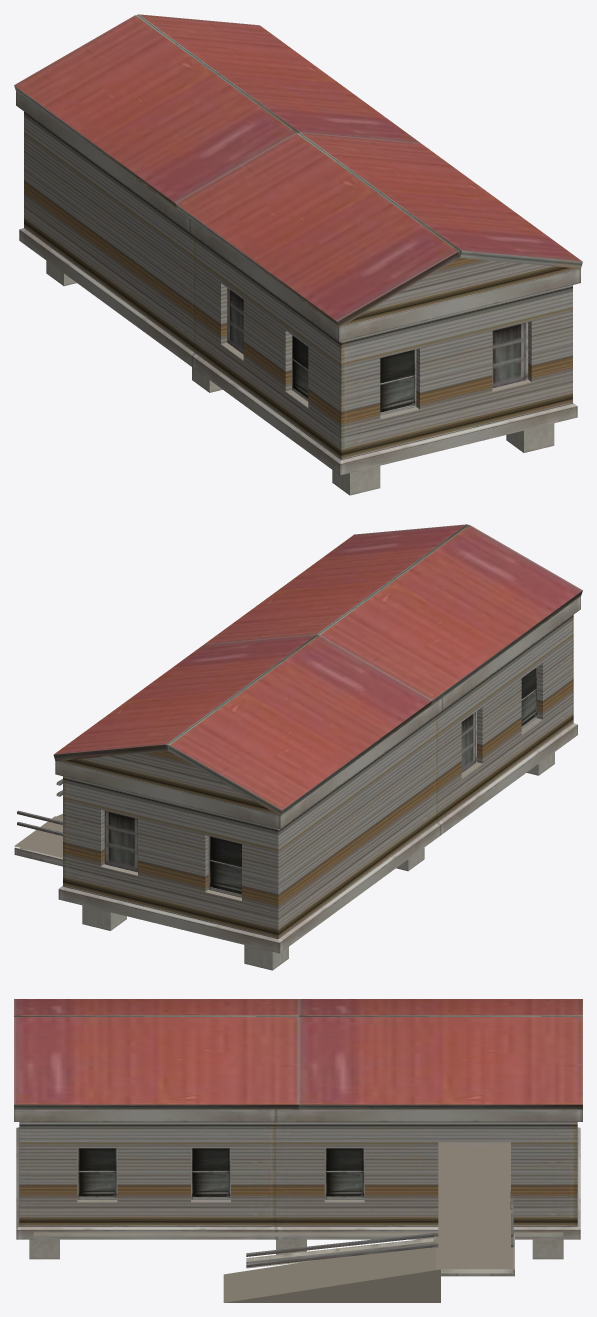
File: rural-mobile-home.walls-v2.lod1.glb
3 renders of one model, top to bottom at view 1: azimuth 30°, elevation 25°; view 2: azimuth 150°, elevation 25°; view 3: azimuth 270°, elevation 25°, orthographic. The views are drawn at different scales.
Parts seen in each view (by area): view 1: Rural_UnmobileHome_1_Rural_Trailer_Stuff_1_0, Rural_UnmobileHome_1_Rural_Facade_FLR_2_0; view 2: Rural_UnmobileHome_1_Rural_Trailer_Stuff_1_0, Rural_UnmobileHome_1_Rural_Facade_FLR_2_0, Walkable floors and stairs; view 3: Rural_UnmobileHome_1_Rural_Trailer_Stuff_1_0, Rural_UnmobileHome_1_Rural_Facade_FLR_2_0, Walkable floors and stairs.
Boxes of the visible parts, x1,y1,x2,y2 form: Rural_UnmobileHome_1_Rural_Trailer_Stuff_1_0: (14, 14, 582, 459); Rural_UnmobileHome_1_Rural_Facade_FLR_2_0: (16, 91, 580, 495); Rural_UnmobileHome_1_Rural_Trailer_Stuff_1_0: (53, 524, 582, 938); Rural_UnmobileHome_1_Rural_Facade_FLR_2_0: (14, 596, 580, 970); Walkable floors and stairs: (14, 814, 62, 857); Rural_UnmobileHome_1_Rural_Trailer_Stuff_1_0: (14, 999, 582, 1226); Rural_UnmobileHome_1_Rural_Facade_FLR_2_0: (14, 1109, 582, 1276); Walkable floors and stairs: (33, 1142, 563, 1302).
Size of the model in its own units: 6.66 by 4.39 by 11.38.
Materials: 3 (2 with a texture image).
